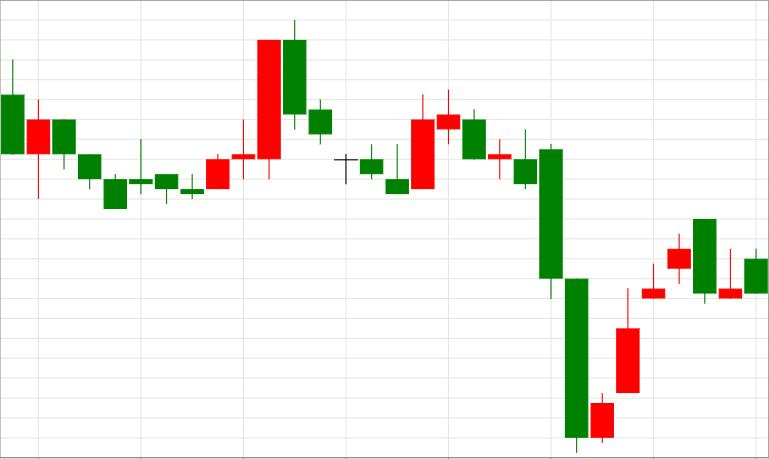bearish_engulfing_fall: (590, 219, 716, 444)
